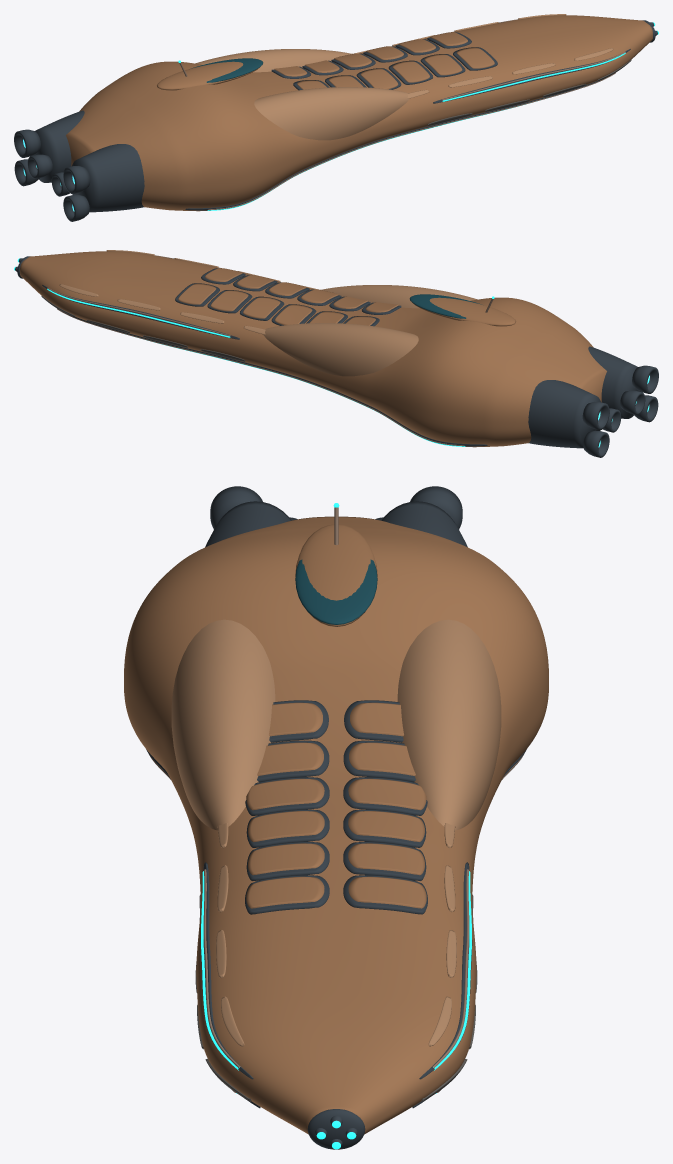
The model's file is siege-ship.glb.
The picture shows the model from 3 angles, top to bottom: view 1: azimuth 30°, elevation 25°; view 2: azimuth 150°, elevation 25°; view 3: azimuth 270°, elevation 25°; orthographic projection. The views are drawn at different scales.
Parts seen in each view (by area): view 1: Continuous pressure hull, Raised aft shoulder, Aft propulsion / integrated nacelle, Raised aft shoulder.001, Aft propulsion / integrated nacelle.001, Bridge / armored tier, Lower data conduit / seated channel, Upper data conduit / seated channel, Lower data conduit / bronze lip, Main propulsion nozzle 02, Main propulsion nozzle 05, Bridge / glazing (+13 smaller); view 2: Continuous pressure hull, Raised aft shoulder.001, Aft propulsion / integrated nacelle.001, Raised aft shoulder, Aft propulsion / integrated nacelle, Bridge / armored tier, Lower data conduit / seated channel.001, Upper data conduit / seated channel.001, Lower data conduit / bronze lip.001, Main propulsion nozzle 05, Main propulsion nozzle 02, Bridge / glazing (+13 smaller); view 3: Continuous pressure hull, Raised aft shoulder.001, Raised aft shoulder, Bridge / armored tier, Bridge / glazing, Flush VLS bank / shutter.010, Flush VLS bank / shutter.011, Flush VLS bank / shutter.009, Flush VLS bank / shutter.008, Flush VLS bank / shutter.004, Flush VLS bank / shutter.005, Aft propulsion / integrated nacelle (+10 smaller).
Part boxes in pixels (<box>): Continuous pressure hull: <box>66,15,652,211</box>; Raised aft shoulder: <box>254,87,409,140</box>; Aft propulsion / integrated nacelle: <box>72,144,144,212</box>; Raised aft shoulder.001: <box>195,49,351,72</box>; Aft propulsion / integrated nacelle.001: <box>31,110,84,182</box>; Bridge / armored tier: <box>157,61,260,90</box>; Lower data conduit / seated channel: <box>185,75,610,210</box>; Upper data conduit / seated channel: <box>433,49,630,103</box>; Lower data conduit / bronze lip: <box>208,72,615,210</box>; Main propulsion nozzle 02: <box>63,166,90,194</box>; Main propulsion nozzle 05: <box>14,129,40,157</box>; Bridge / glazing: <box>191,58,263,82</box>; Continuous pressure hull: <box>20,251,606,447</box>; Raised aft shoulder.001: <box>263,323,418,376</box>; Aft propulsion / integrated nacelle.001: <box>528,380,600,448</box>; Raised aft shoulder: <box>321,285,477,308</box>; Aft propulsion / integrated nacelle: <box>588,346,641,418</box>; Bridge / armored tier: <box>412,297,515,326</box>; Lower data conduit / seated channel.001: <box>62,311,487,446</box>; Upper data conduit / seated channel.001: <box>42,285,239,339</box>; Lower data conduit / bronze lip.001: <box>57,308,464,446</box>; Main propulsion nozzle 05: <box>582,402,609,430</box>; Main propulsion nozzle 02: <box>632,365,658,393</box>; Bridge / glazing: <box>409,294,481,318</box>; Continuous pressure hull: <box>124,516,548,1134</box>; Raised aft shoulder.001: <box>397,619,501,830</box>; Raised aft shoulder: <box>171,619,275,830</box>; Bridge / armored tier: <box>295,524,377,626</box>; Bridge / glazing: <box>295,559,377,624</box>; Flush VLS bank / shutter.010: <box>348,876,426,908</box>; Flush VLS bank / shutter.011: <box>246,876,324,908</box>; Flush VLS bank / shutter.009: <box>248,843,324,875</box>; Flush VLS bank / shutter.008: <box>348,843,424,875</box>; Flush VLS bank / shutter.004: <box>348,778,426,810</box>; Flush VLS bank / shutter.005: <box>246,778,324,810</box>; Aft propulsion / integrated nacelle: <box>205,501,291,547</box>.
Size of the model in its own units: 1050 by 217 by 317.
